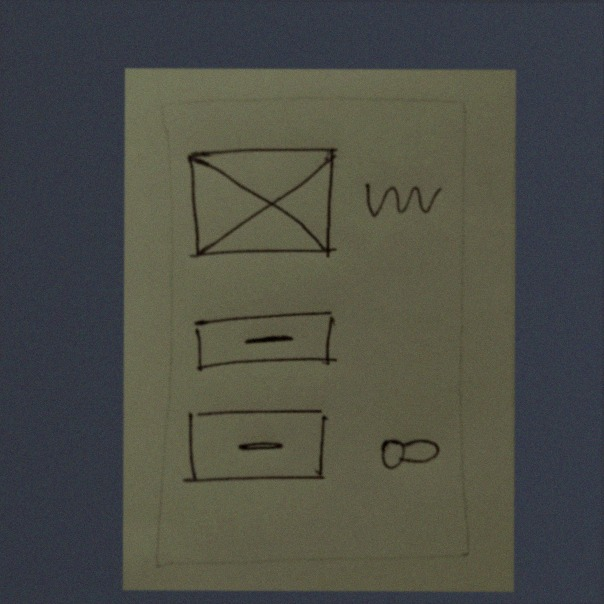button: (181, 403, 332, 485), (188, 311, 342, 376)
image: (182, 147, 341, 262)
switch: (371, 433, 446, 475)
text: (358, 174, 447, 225)
